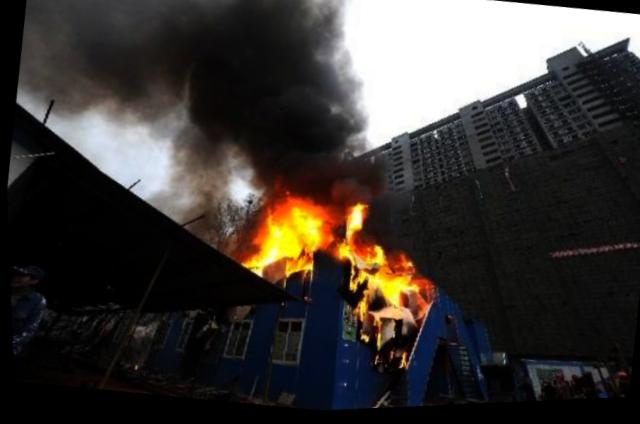fire: (221, 183, 452, 376)
